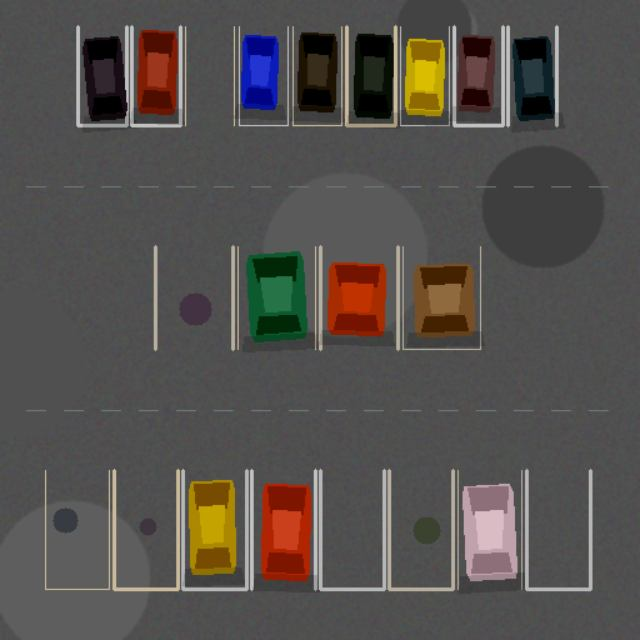space-empty: (155, 246, 232, 349), (45, 470, 109, 589), (320, 470, 384, 589), (389, 470, 453, 589), (526, 470, 590, 589), (114, 470, 177, 589), (185, 26, 234, 125)
space-occupied: (320, 246, 398, 349), (402, 246, 480, 349), (238, 246, 315, 349), (251, 470, 315, 589), (457, 470, 521, 589), (183, 470, 246, 589), (131, 26, 180, 125), (239, 26, 288, 125), (292, 26, 341, 125), (346, 26, 395, 125), (400, 26, 449, 125), (78, 26, 126, 125), (454, 26, 502, 125), (508, 26, 556, 125)
